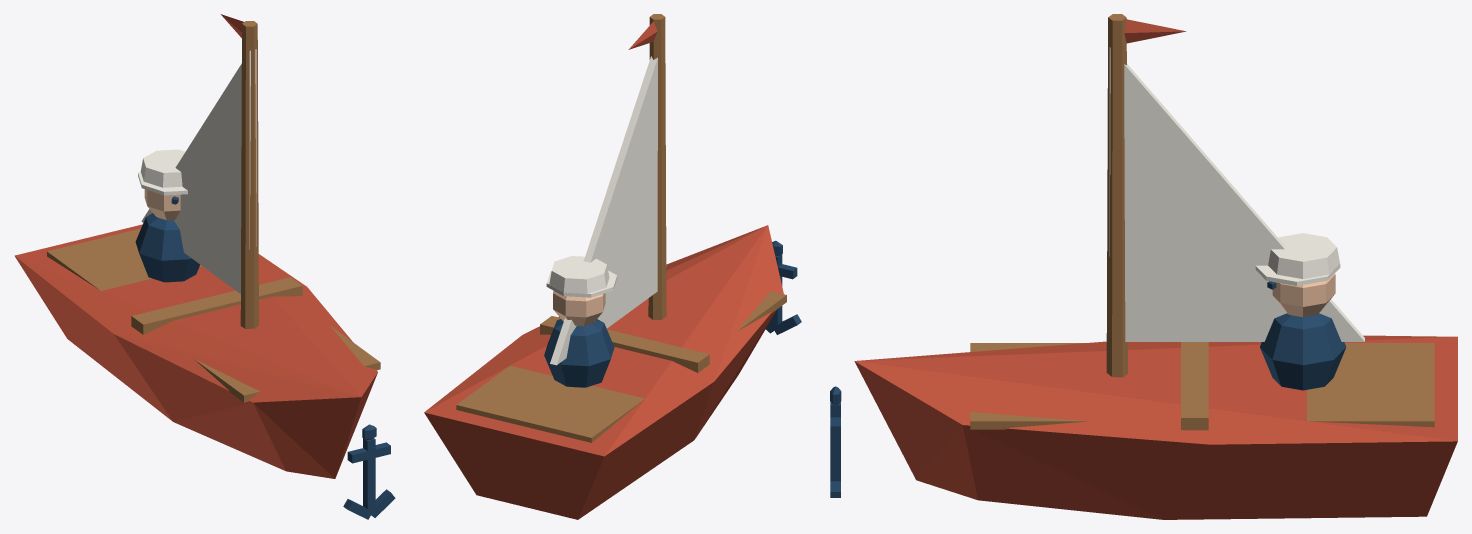
File: boat.glb
3 renders of one model, left to right at view 1: azimuth 30°, elevation 25°; view 2: azimuth 150°, elevation 25°; view 3: azimuth 270°, elevation 25°, orthographic. The views are drawn at different scales.
Parts seen in each view (by area): view 1: Body, Sail, Captain, Anchor; view 2: Body, Sail, Captain, Anchor; view 3: Body, Sail, Captain, Anchor.
Part boxes in pixels (<box>): Body: <box>14,14,380,478</box>; Sail: <box>141,49,256,293</box>; Captain: <box>135,149,199,282</box>; Anchor: <box>343,424,395,519</box>; Body: <box>424,14,786,519</box>; Sail: <box>550,56,657,365</box>; Captain: <box>544,256,617,387</box>; Anchor: <box>766,240,801,334</box>; Body: <box>854,14,1457,519</box>; Sail: <box>1109,47,1364,341</box>; Captain: <box>1255,233,1346,390</box>; Anchor: <box>830,386,841,497</box>.
Size of the model in its own units: 1.7 by 3.41 by 4.06.
